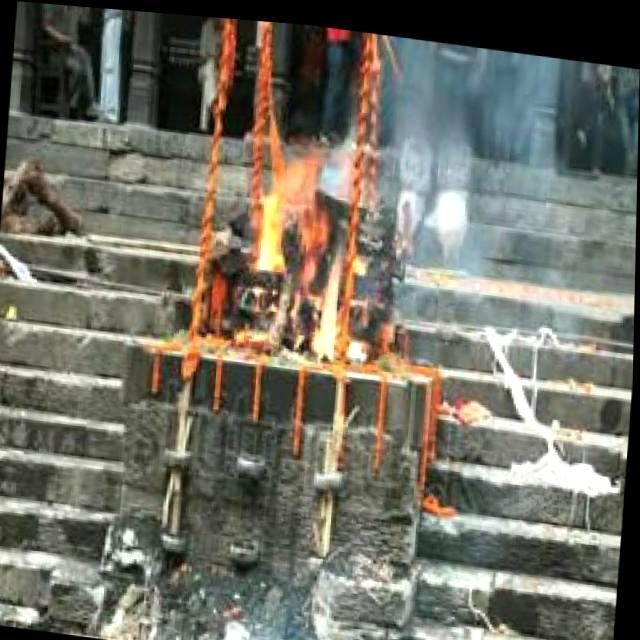fire: (242, 126, 360, 360)
